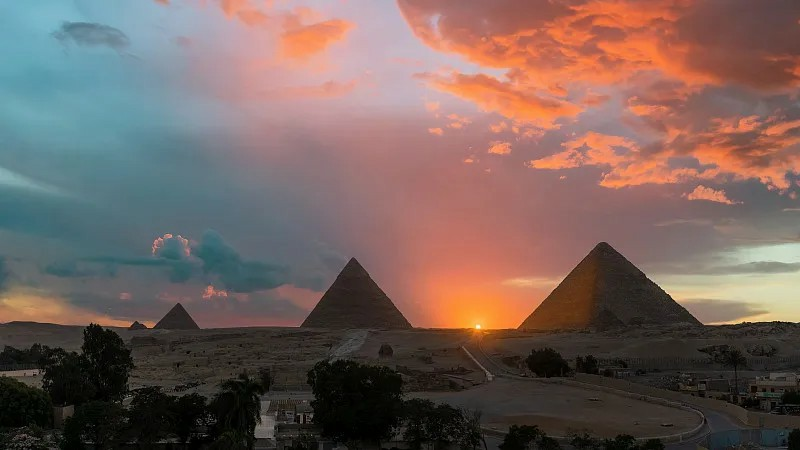Pyramid: (517, 242, 706, 330), (298, 258, 413, 330), (153, 303, 199, 328)
